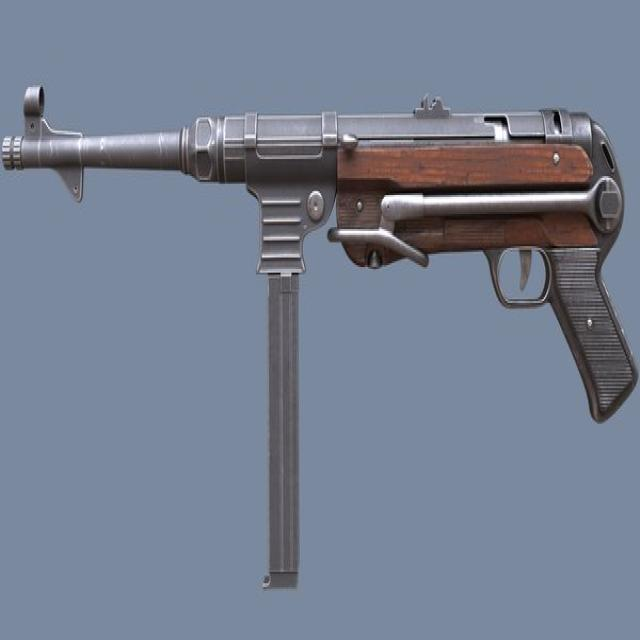SMG: (0, 85, 640, 593)
